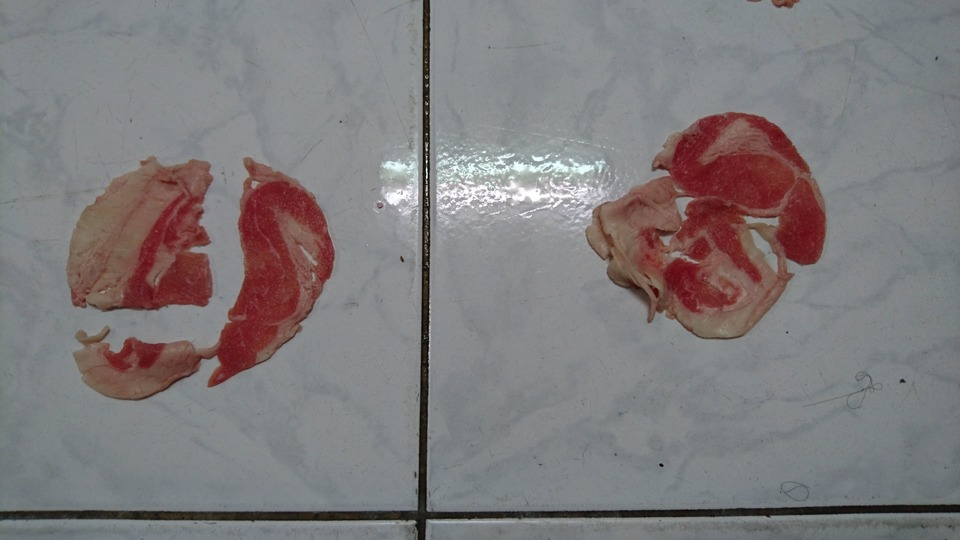restructured meat: (64, 149, 338, 406), (576, 112, 826, 342)
